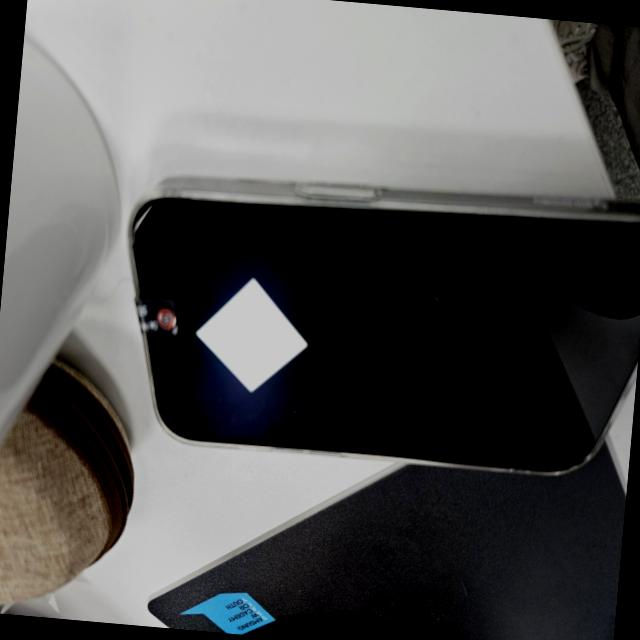phone: (107, 156, 640, 486)
sticker: (132, 295, 182, 340)
